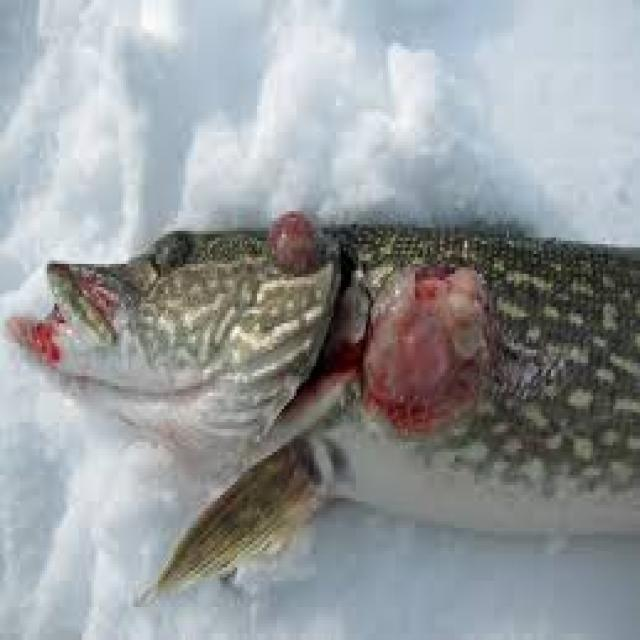EUS Disease: (11, 202, 640, 584)
